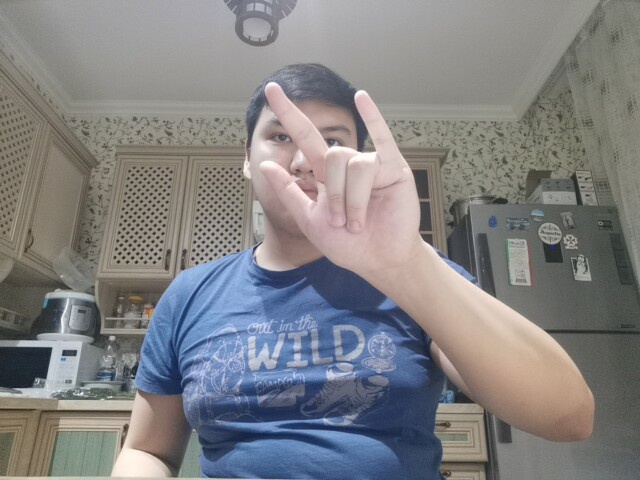I Love You: (247, 80, 449, 292)
